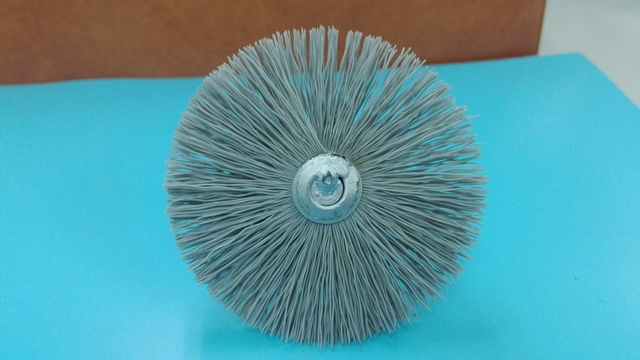TOOL: (133, 26, 516, 350)
